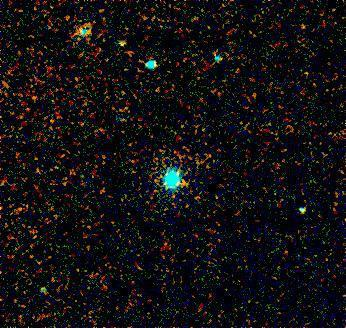star: (30, 274, 60, 304)
